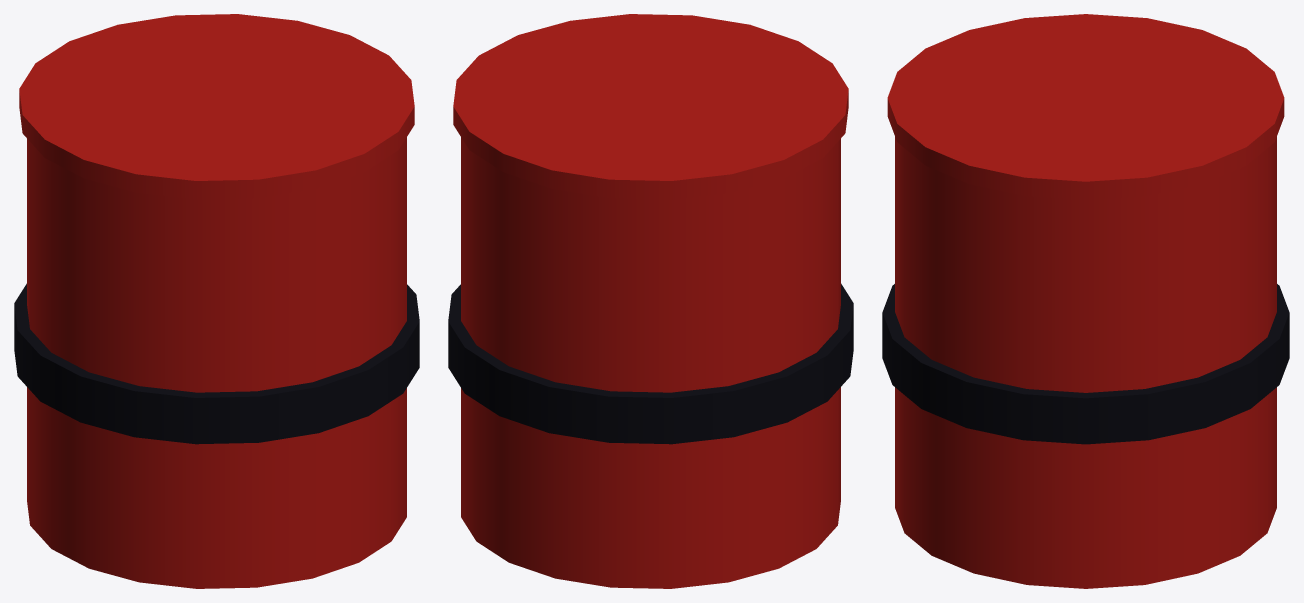
File: can_red.glb
3 renders of one model, left to right at view 1: azimuth 30°, elevation 25°; view 2: azimuth 150°, elevation 25°; view 3: azimuth 270°, elevation 25°, orthographic.
Parts seen in each view (by area): view 1: can_red; view 2: can_red; view 3: can_red.
Boxes of the visible parts, x1,y1,x2,y2 form: can_red: (14, 14, 419, 588); can_red: (448, 14, 853, 588); can_red: (882, 14, 1289, 588).
Bounding box in the file's own units: 1.6 × 1.78 × 1.6.
